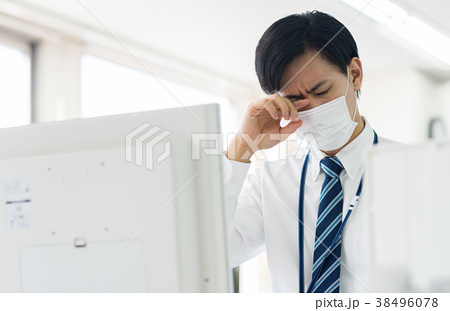mask: (283, 101, 362, 154)
